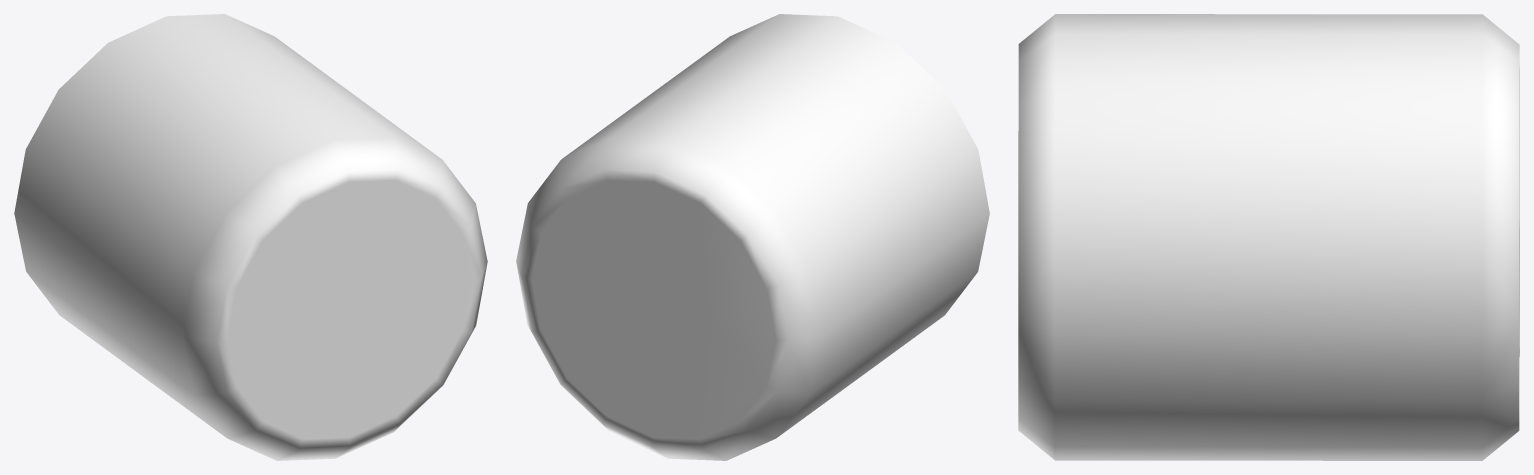
File: Grenade.fbx
The picture shows the model from 3 angles, left to right: view 1: azimuth 30°, elevation 25°; view 2: azimuth 150°, elevation 25°; view 3: azimuth 270°, elevation 25°; orthographic projection. The views are drawn at different scales.
Visible parts, largest first — view 1: polySurface1; view 2: polySurface1; view 3: polySurface1.
Boxes of the visible parts, <box> form: polySurface1: <box>14,14,487,460</box>; polySurface1: <box>516,14,989,460</box>; polySurface1: <box>1018,14,1519,460</box>.
Bounding box in the file's own units: 5.62 × 5.61 × 6.29.
